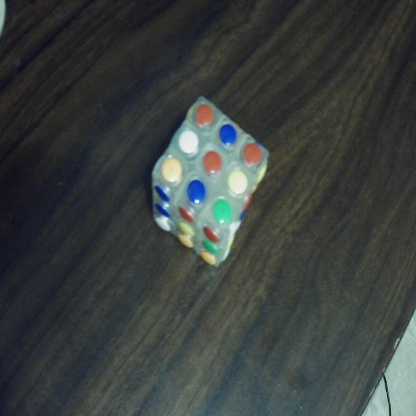Rubix Cube: (151, 96, 271, 266)
